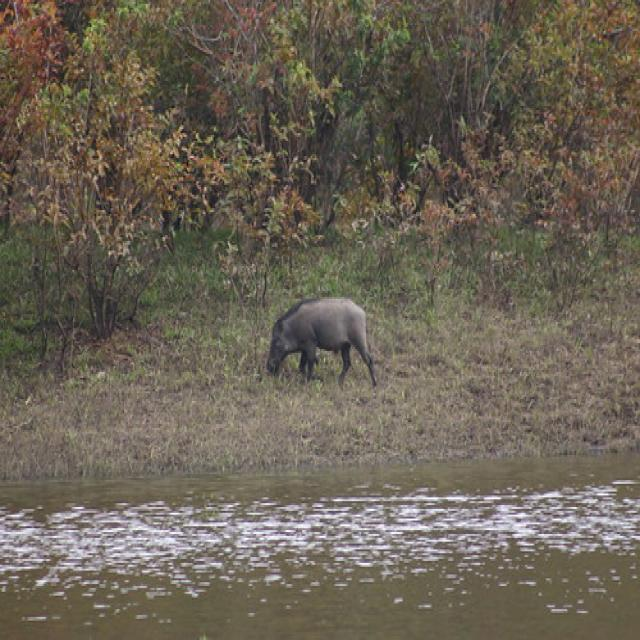boar: (250, 291, 392, 404)
